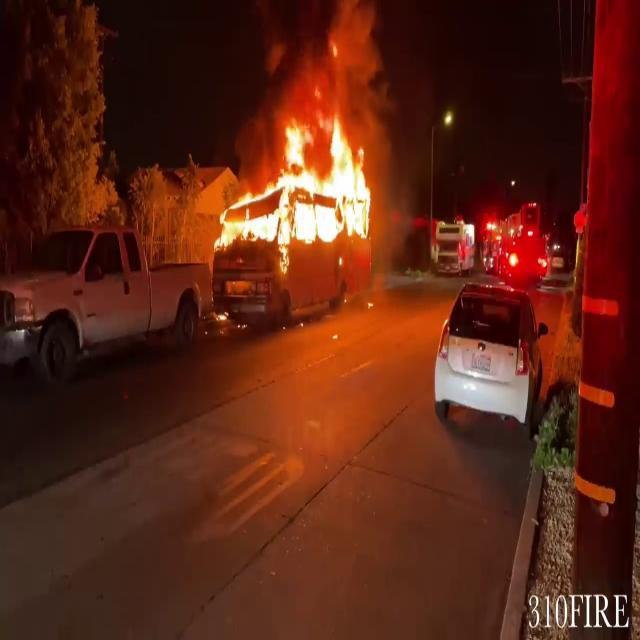Fire: (206, 106, 382, 262)
Smoke: (252, 0, 378, 118)
